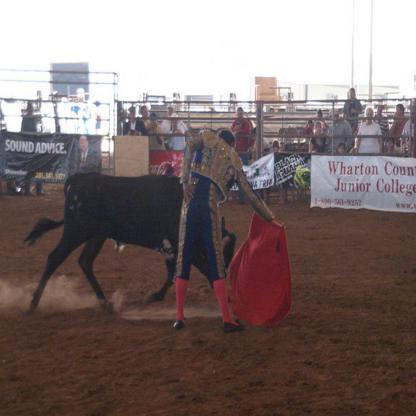face: (359, 110, 367, 122), (81, 138, 88, 151), (367, 109, 373, 123), (172, 119, 179, 131), (387, 140, 394, 151), (407, 140, 413, 152), (331, 114, 339, 123), (411, 109, 416, 123), (317, 124, 323, 135), (143, 108, 149, 119), (29, 104, 35, 115), (397, 107, 403, 117), (352, 113, 357, 125), (168, 108, 174, 118), (151, 116, 157, 126), (350, 91, 355, 102), (131, 109, 136, 120), (378, 105, 383, 115), (238, 110, 243, 120), (280, 129, 286, 137), (340, 145, 345, 154), (146, 120, 151, 129), (288, 142, 292, 150), (288, 128, 293, 134), (318, 115, 322, 122), (310, 123, 314, 130), (305, 145, 309, 152)
